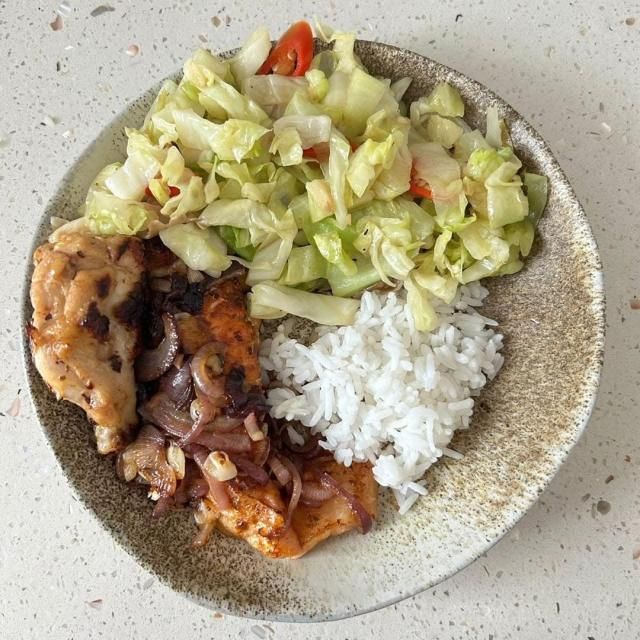Chicken: (32, 231, 378, 558)
Plate: (25, 104, 604, 619)
Rice: (248, 283, 511, 516)
Vegetables: (81, 23, 554, 333)
